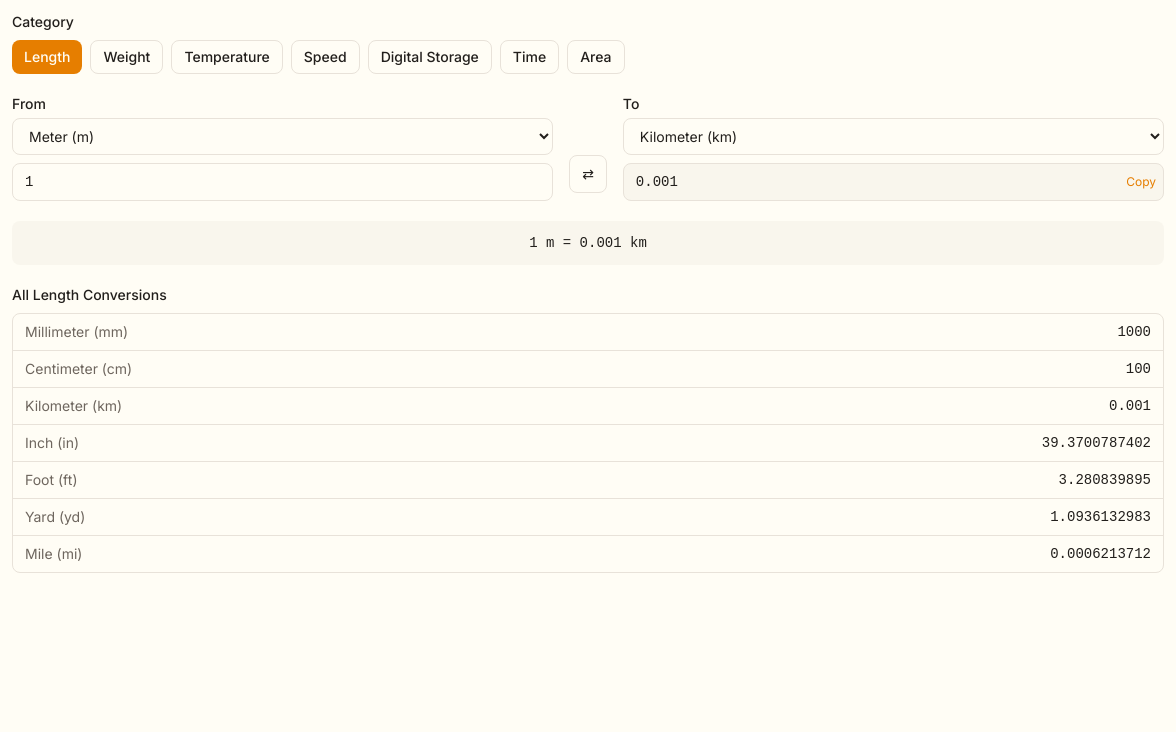
UnitConverter › switches category and resets units
Click the button "Weight" at {"x": 127, "y": 57}, box [90,40,163,74]
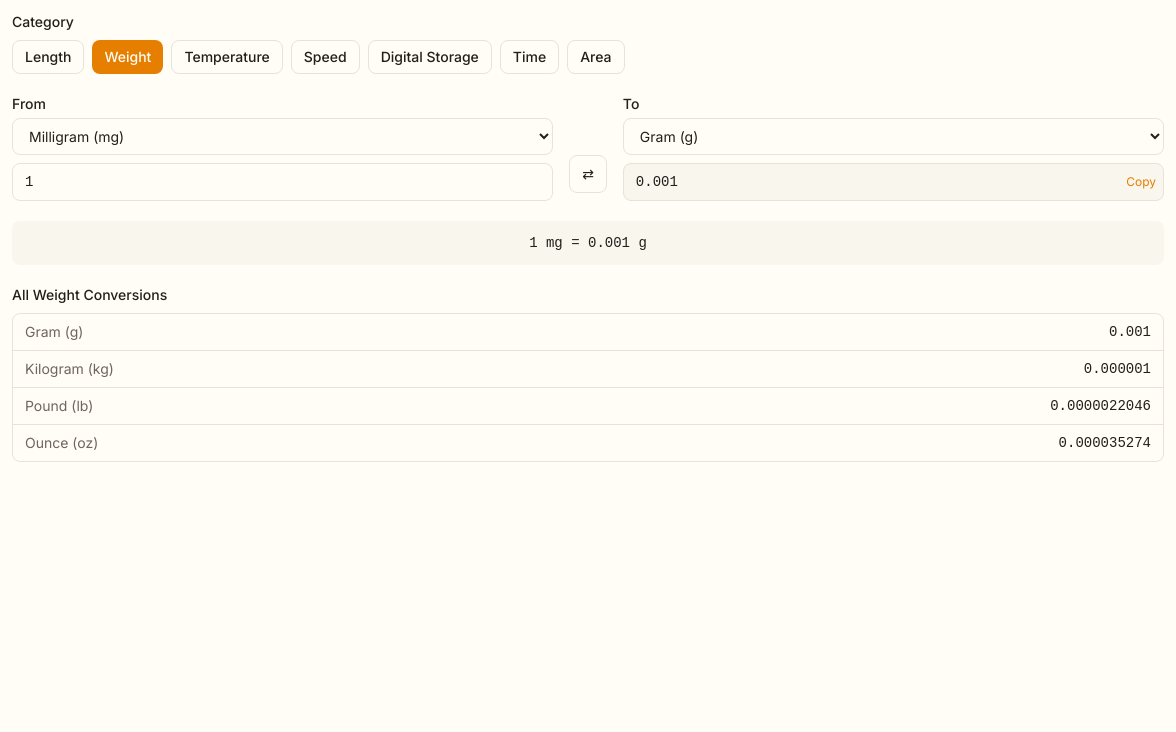
Check: the dropdown named "From unit" shows "Milligram (mg)", box [12,118,553,155]
